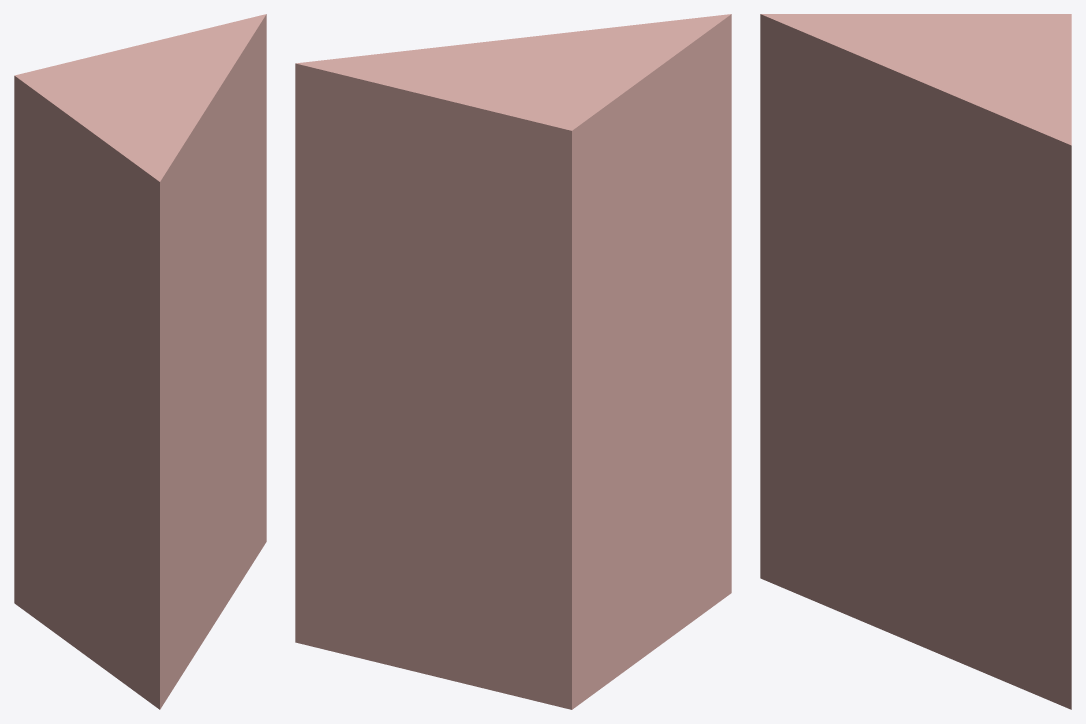
File: Wall_Diagnal.fbx
3 views of the same model, side by side, from view 1: azimuth 30°, elevation 25°; view 2: azimuth 150°, elevation 25°; view 3: azimuth 270°, elevation 25° (orthographic). The views are drawn at different scales.
Parts seen in each view (by area): view 1: Wall_Diagnal; view 2: Wall_Diagnal; view 3: Wall_Diagnal.
Part boxes in pixels (x1,y1,x2,y2): Wall_Diagnal: (14,14,266,709); Wall_Diagnal: (295,14,731,709); Wall_Diagnal: (760,14,1071,709).
Bounding box in the file's own units: 500 × 1000 × 500.
